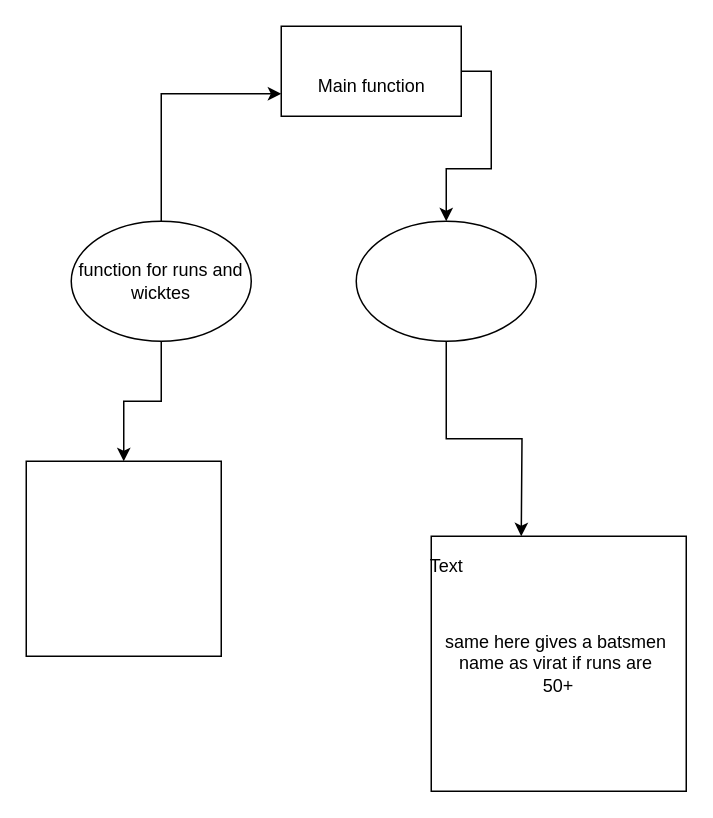
Some shapes in this 713 by 818 pixel diagram are drawn without their labels. Each missing label, with the centre of its shape:
"function 2 for calll by address" belongs at (x=445, y=280).
"gives out put as runs if a century made and about wickets" belongs at (x=123, y=558).
